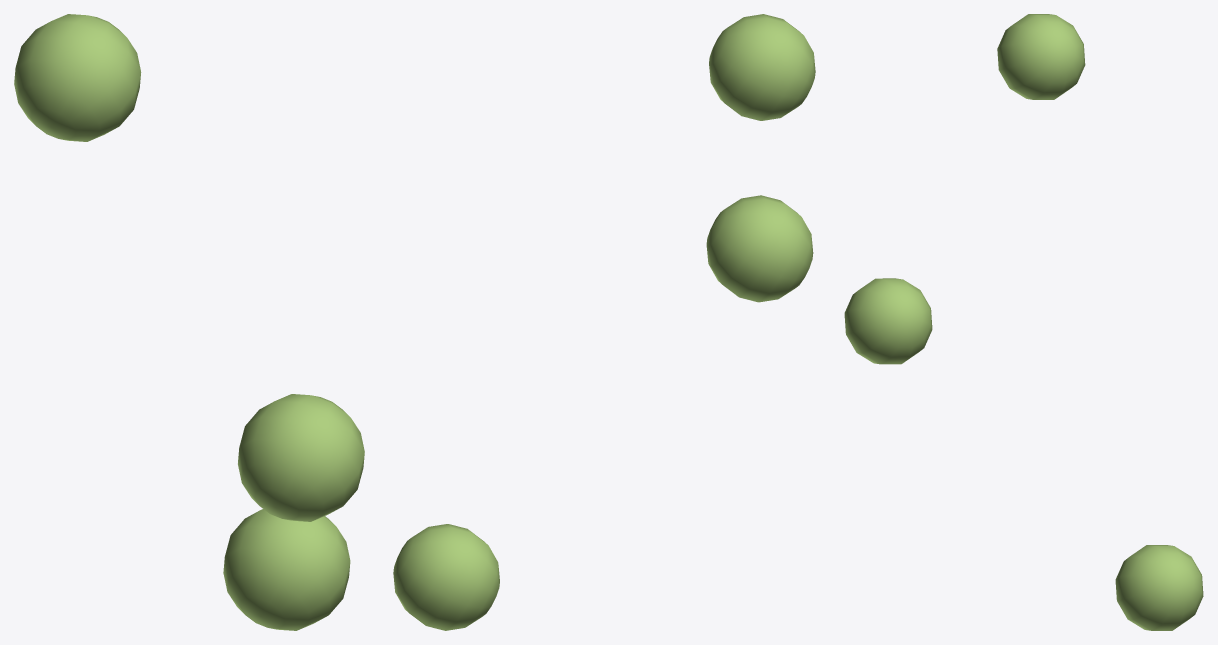
File: intraglandular-parotid-nodes-r.glb
The picture shows the model from 3 angles, left to right: view 1: azimuth 30°, elevation 25°; view 2: azimuth 150°, elevation 25°; view 3: azimuth 270°, elevation 25°; orthographic projection. The views are drawn at different scales.
Visible parts, largest first — view 1: Intraglandular parotid nodes.r; view 2: Intraglandular parotid nodes.r; view 3: Intraglandular parotid nodes.r.
Boxes of the visible parts, x1=… form: Intraglandular parotid nodes.r: x1=14, y1=14, x2=364, y2=630; Intraglandular parotid nodes.r: x1=393, y1=14, x2=815, y2=630; Intraglandular parotid nodes.r: x1=844, y1=14, x2=1203, y2=630.
Bounding box in the file's own units: 0.00942 × 0.0164 × 0.0104.
